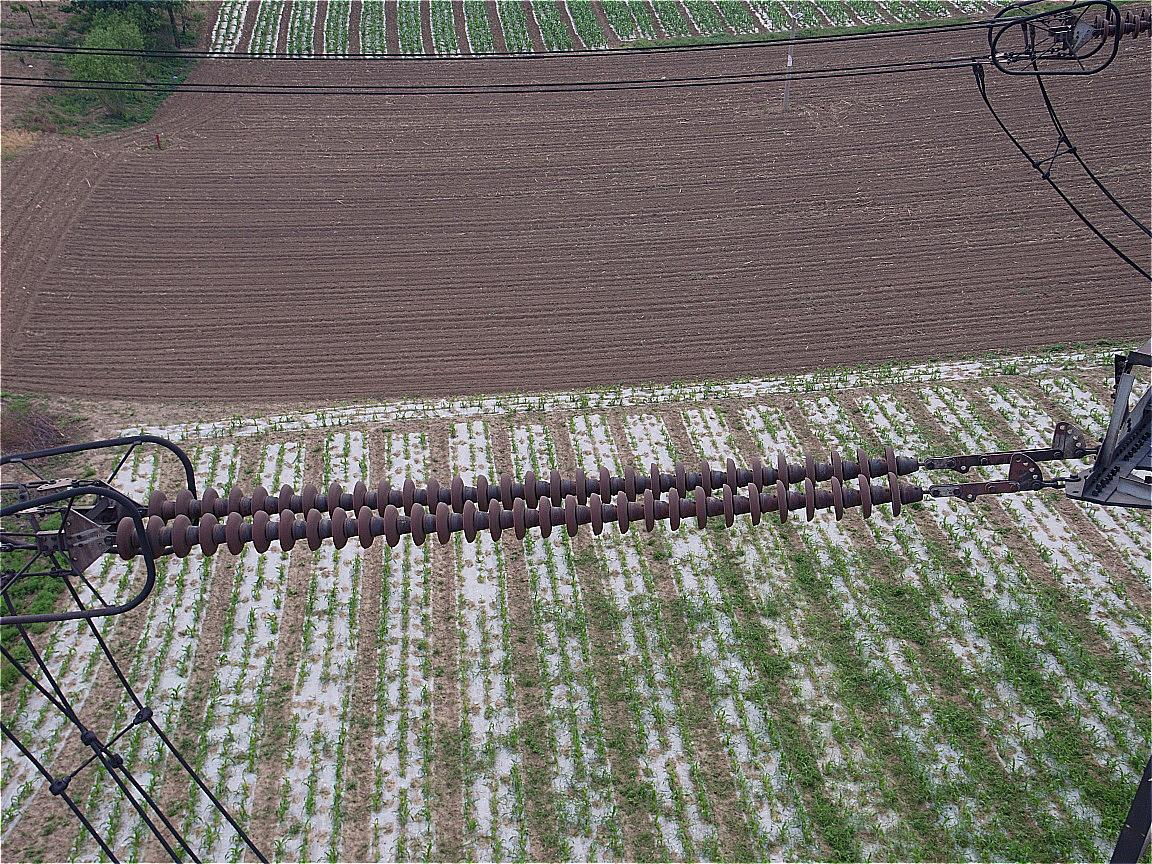insultor1: (83, 445, 945, 563)
